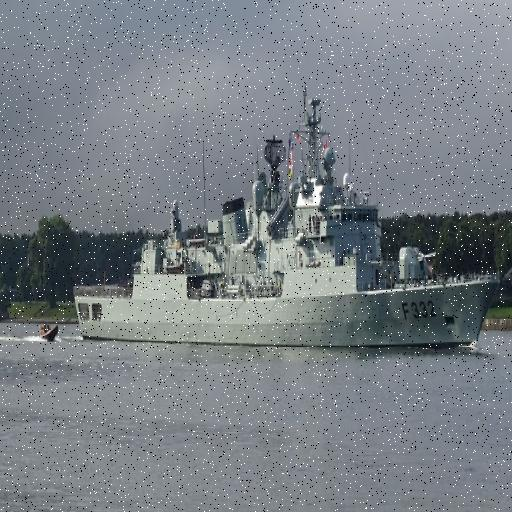Fragata: (71, 91, 500, 353)
